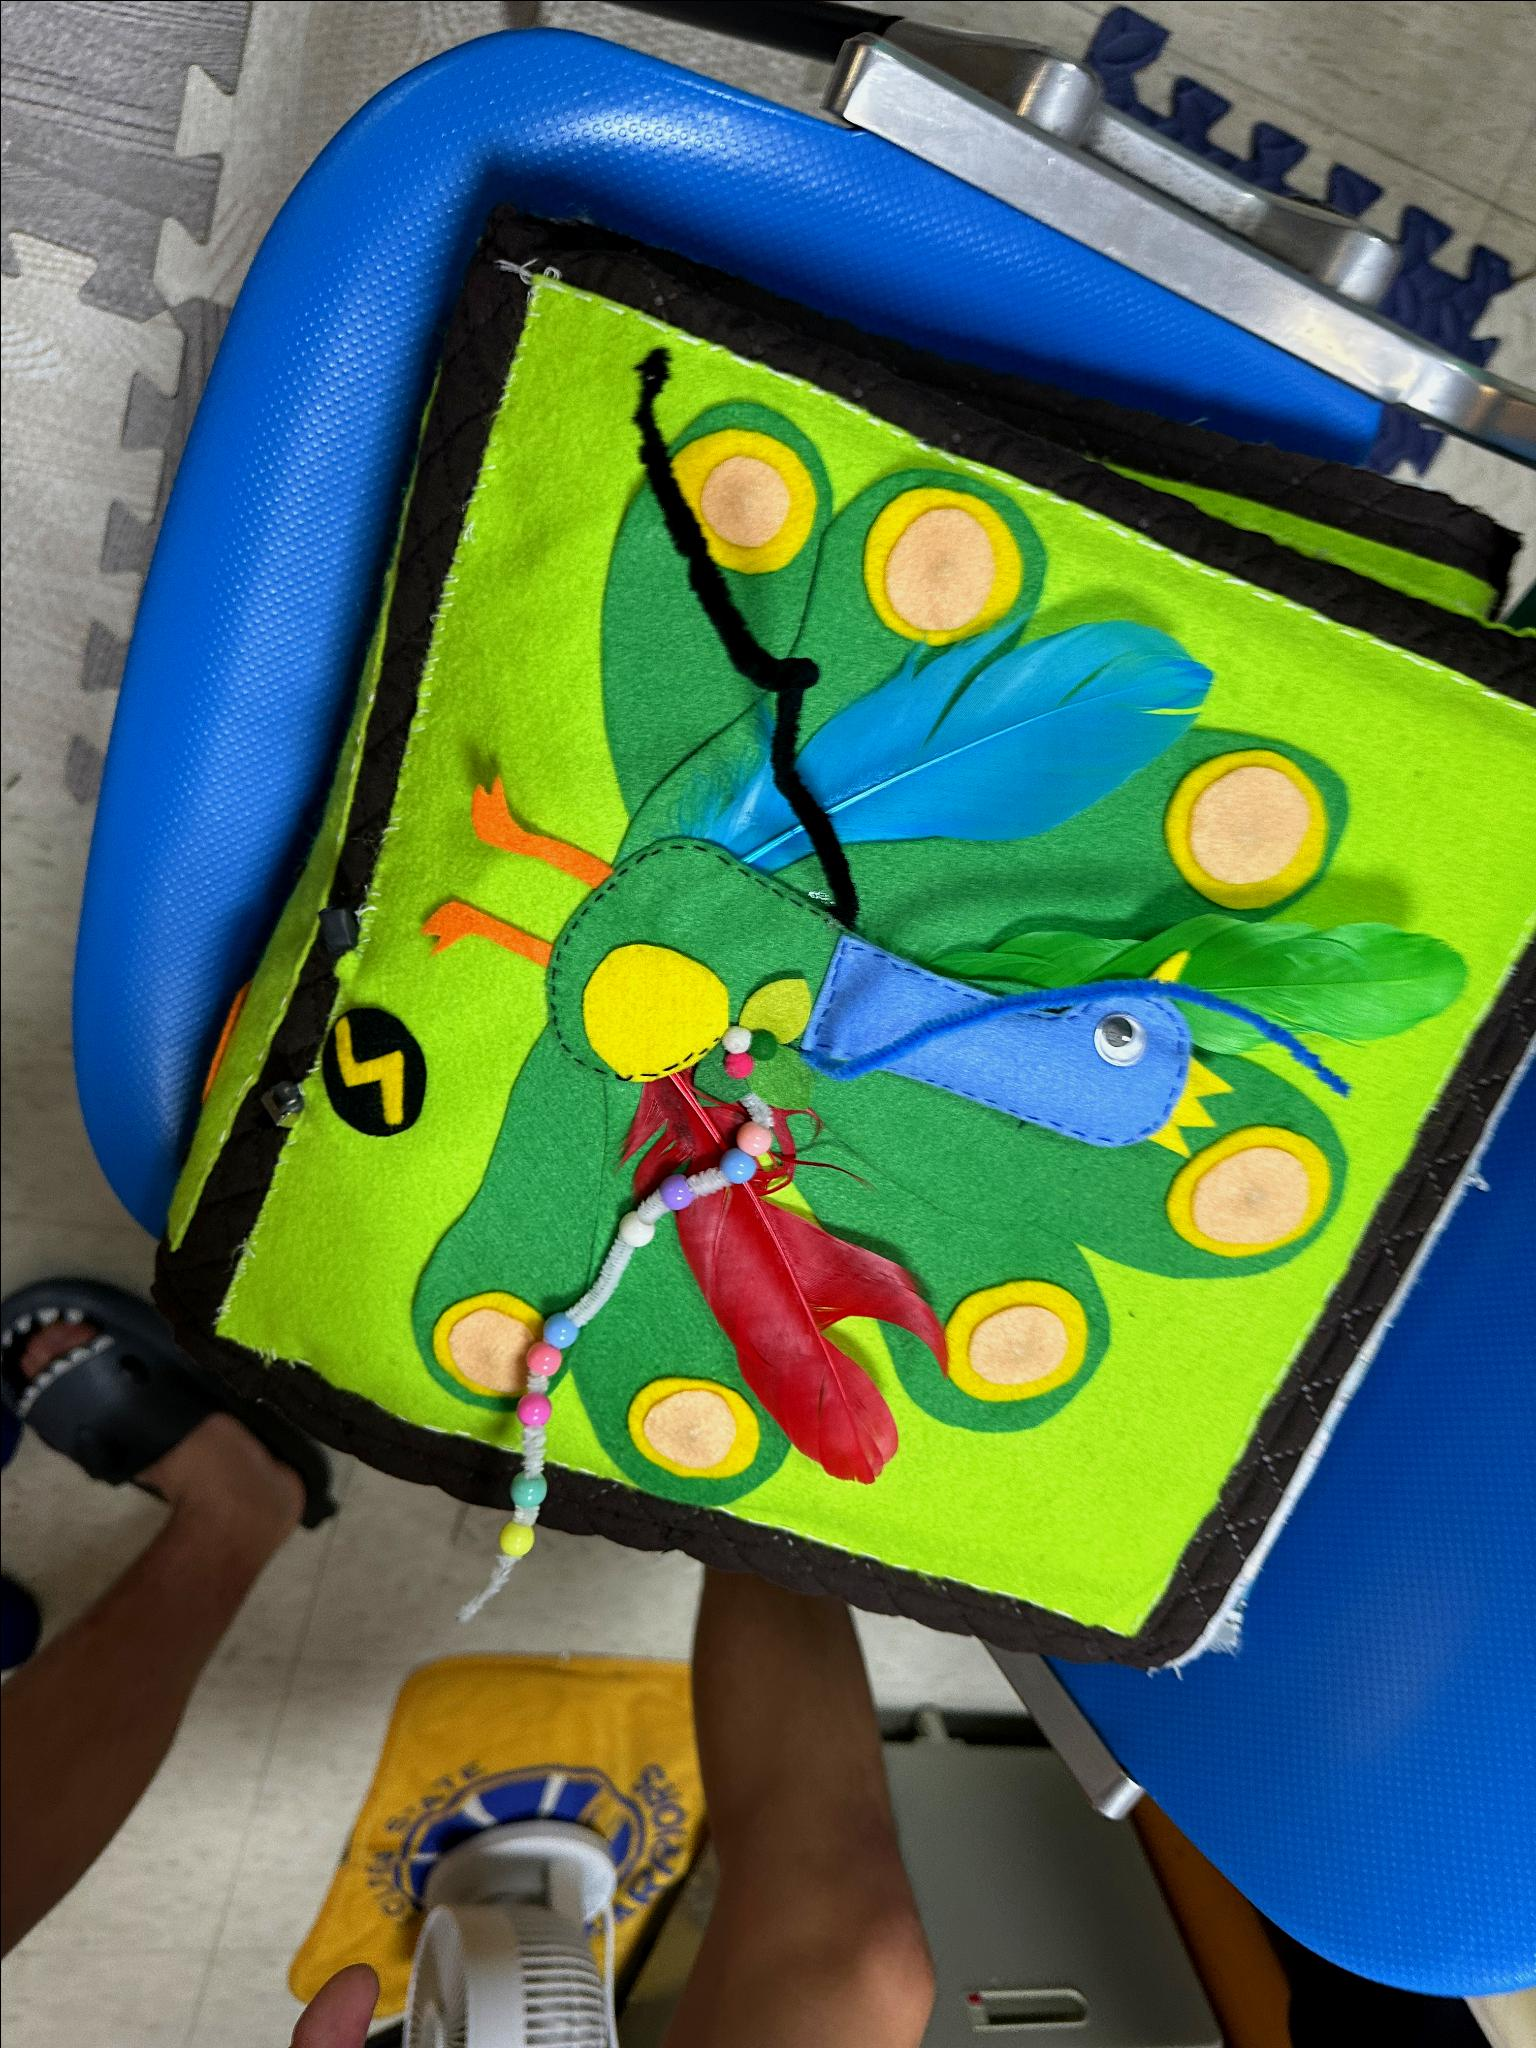bead: (508, 1387, 560, 1435), (652, 1172, 697, 1214), (615, 1211, 657, 1255), (507, 1471, 549, 1513), (544, 1314, 587, 1353), (499, 1522, 537, 1561), (736, 1121, 773, 1158), (521, 1343, 558, 1379), (720, 1151, 755, 1188)
